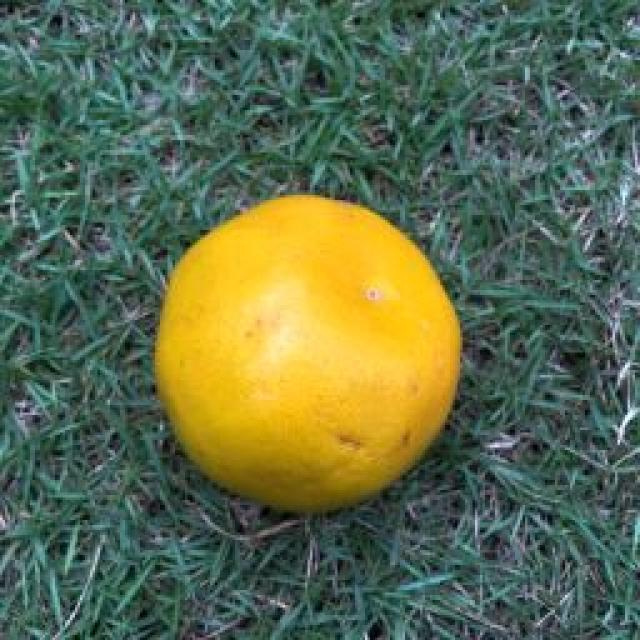Good_Orange: (152, 195, 462, 518)
